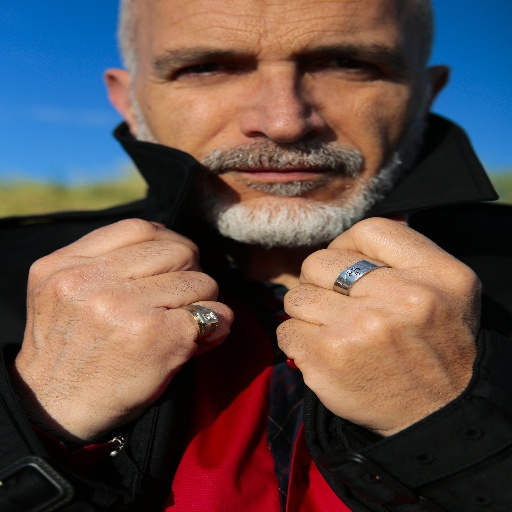hand: (25, 219, 237, 436), (277, 216, 485, 437)
